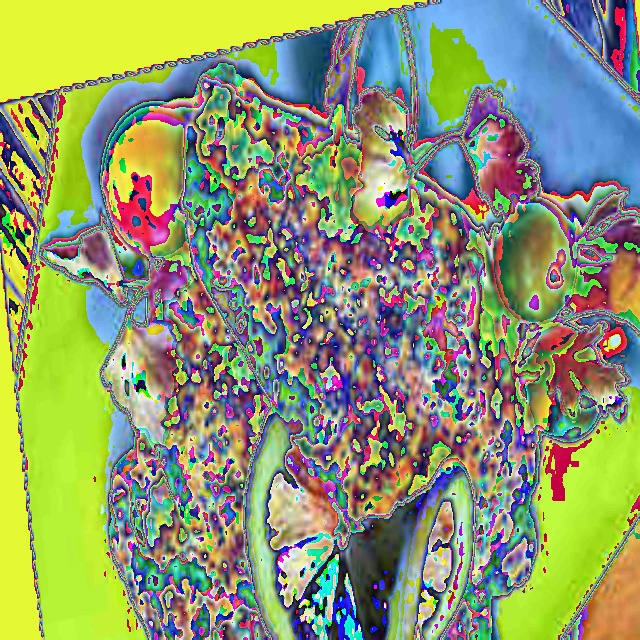background: (40, 10, 639, 639)
